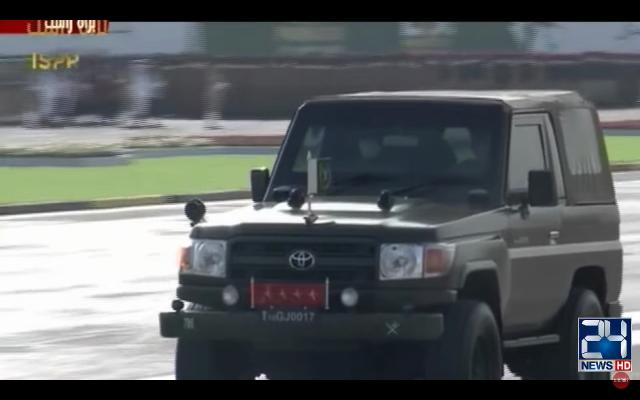plate: (258, 306, 320, 324)
